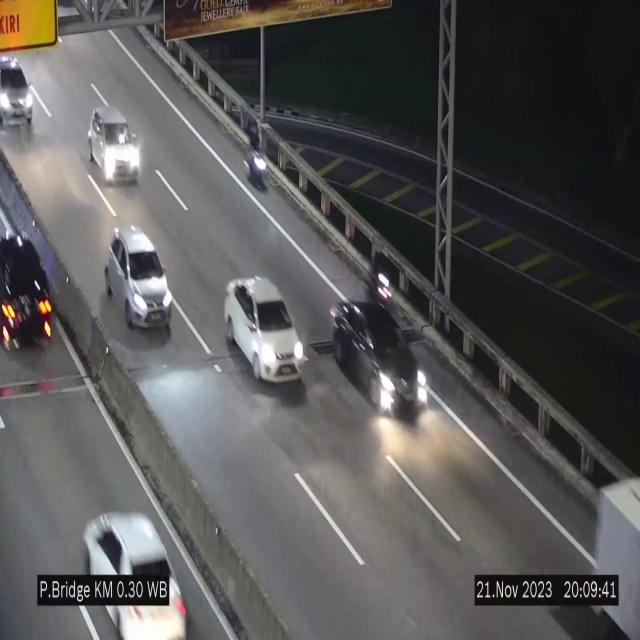Car: (85, 500, 187, 640), (328, 294, 430, 422), (224, 277, 306, 383), (0, 227, 60, 361), (104, 228, 172, 328), (0, 45, 52, 131), (88, 106, 142, 184)
Motorcycle: (242, 108, 272, 198), (370, 246, 393, 310)
